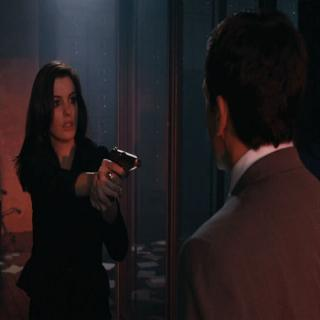gun: (97, 144, 143, 204)
